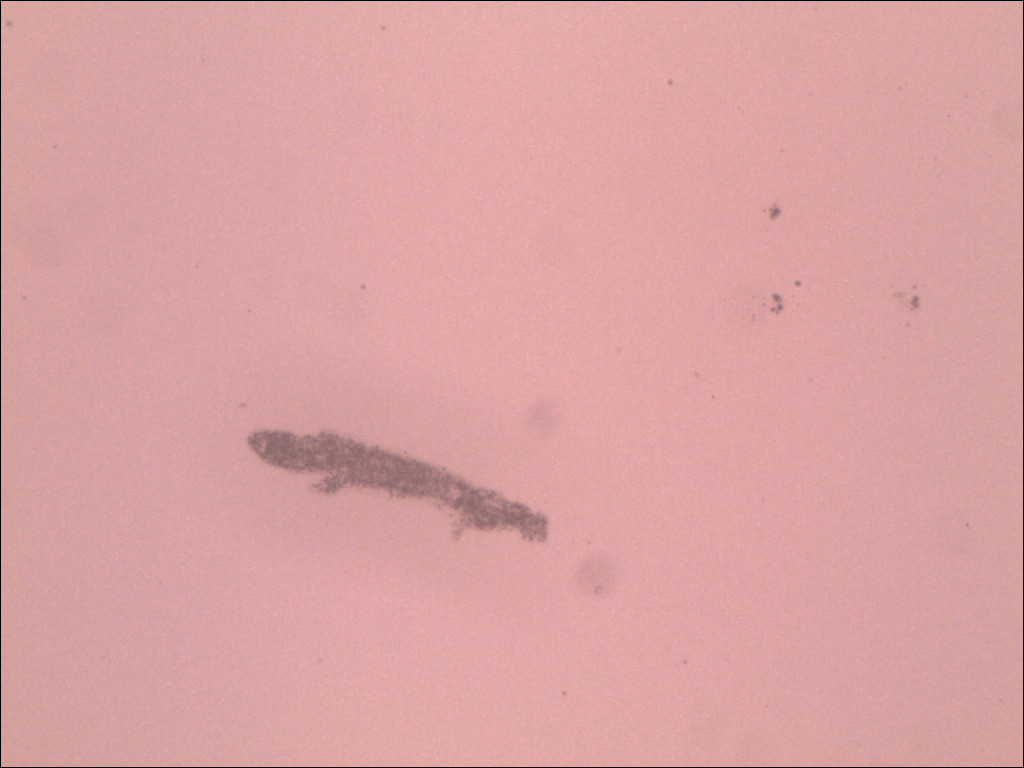amoeba: (242, 418, 557, 554)
